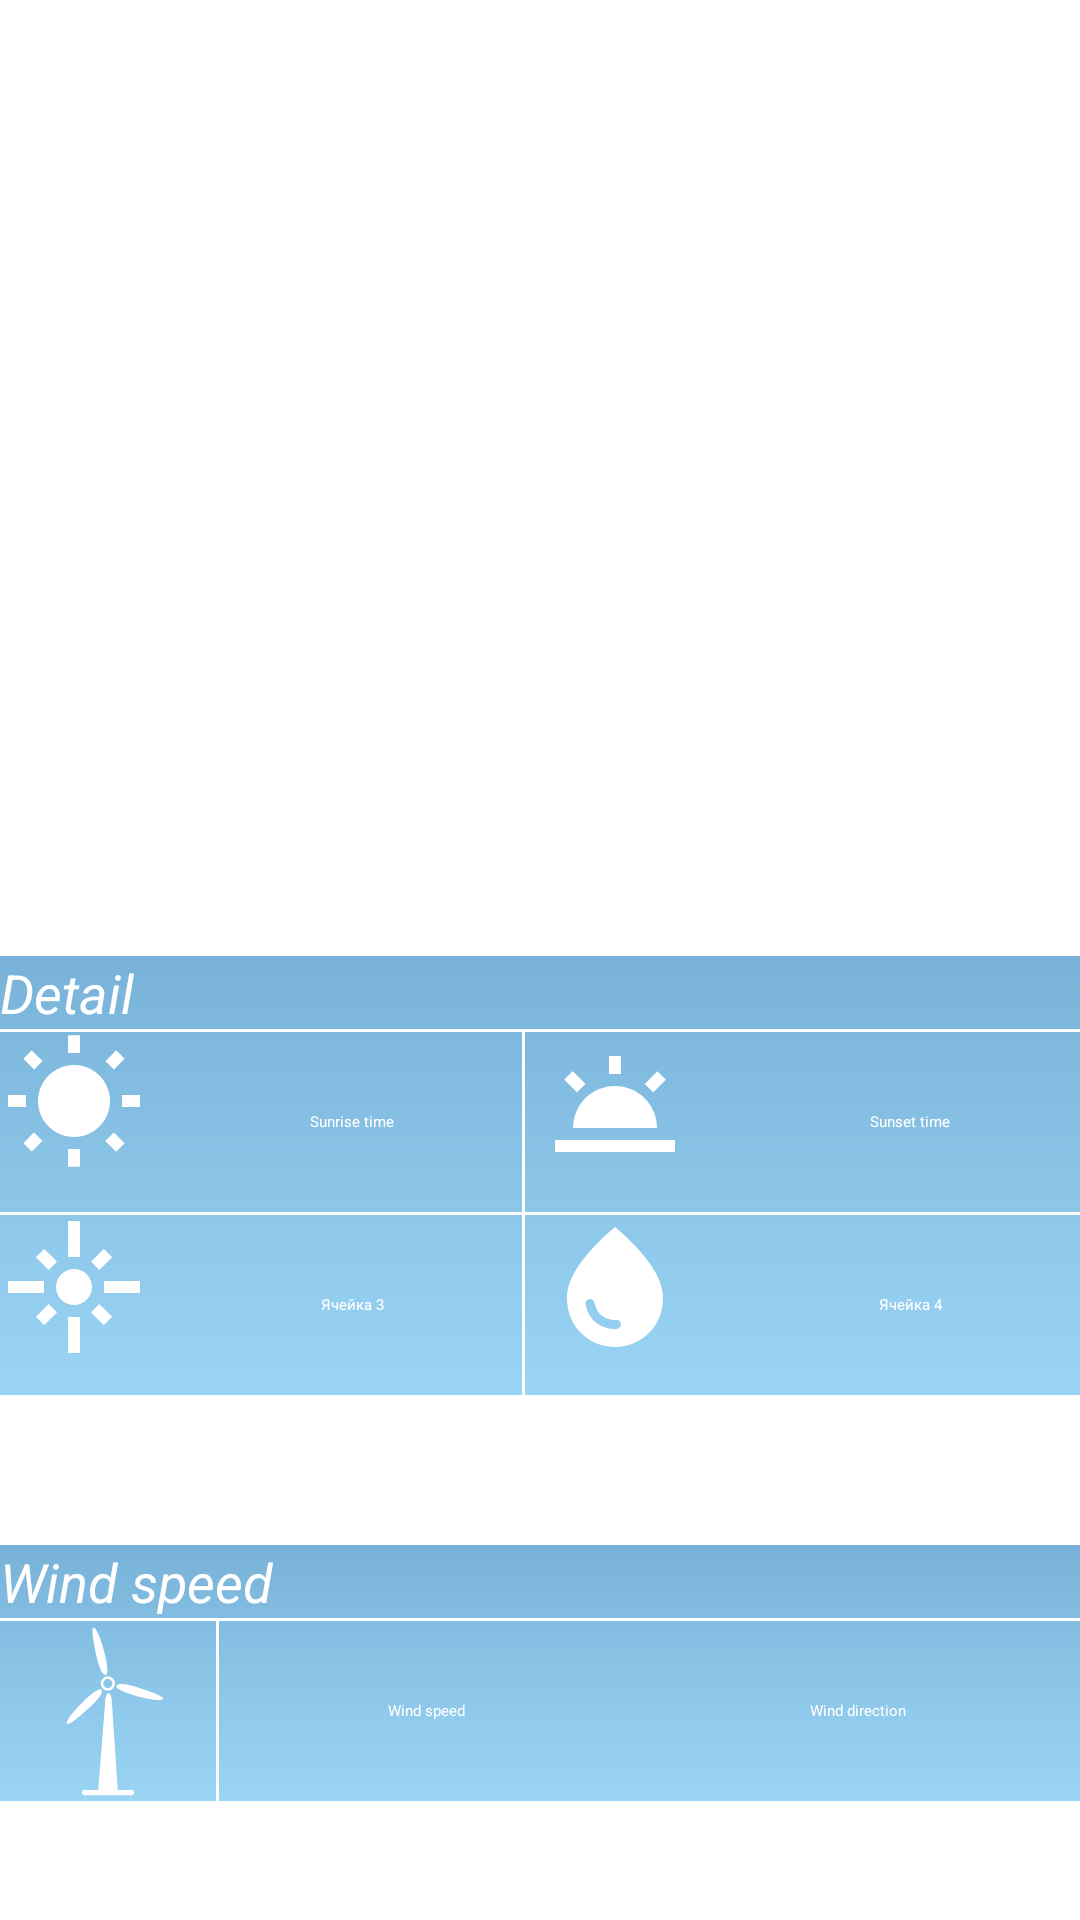

Named icons in this screenshot (1080 × 1920) and their centers, (x=x, y=y):
uv index max: (x=91, y=1305)
